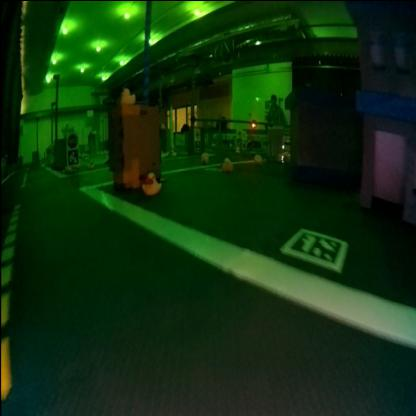Duckie: (144, 172, 160, 194), (124, 86, 135, 102), (224, 157, 233, 167), (204, 150, 210, 162), (256, 152, 262, 162)
QR code: (282, 228, 347, 269), (66, 148, 78, 164)
Stop sign: (68, 130, 79, 146)
Traffic light: (250, 118, 256, 127)
